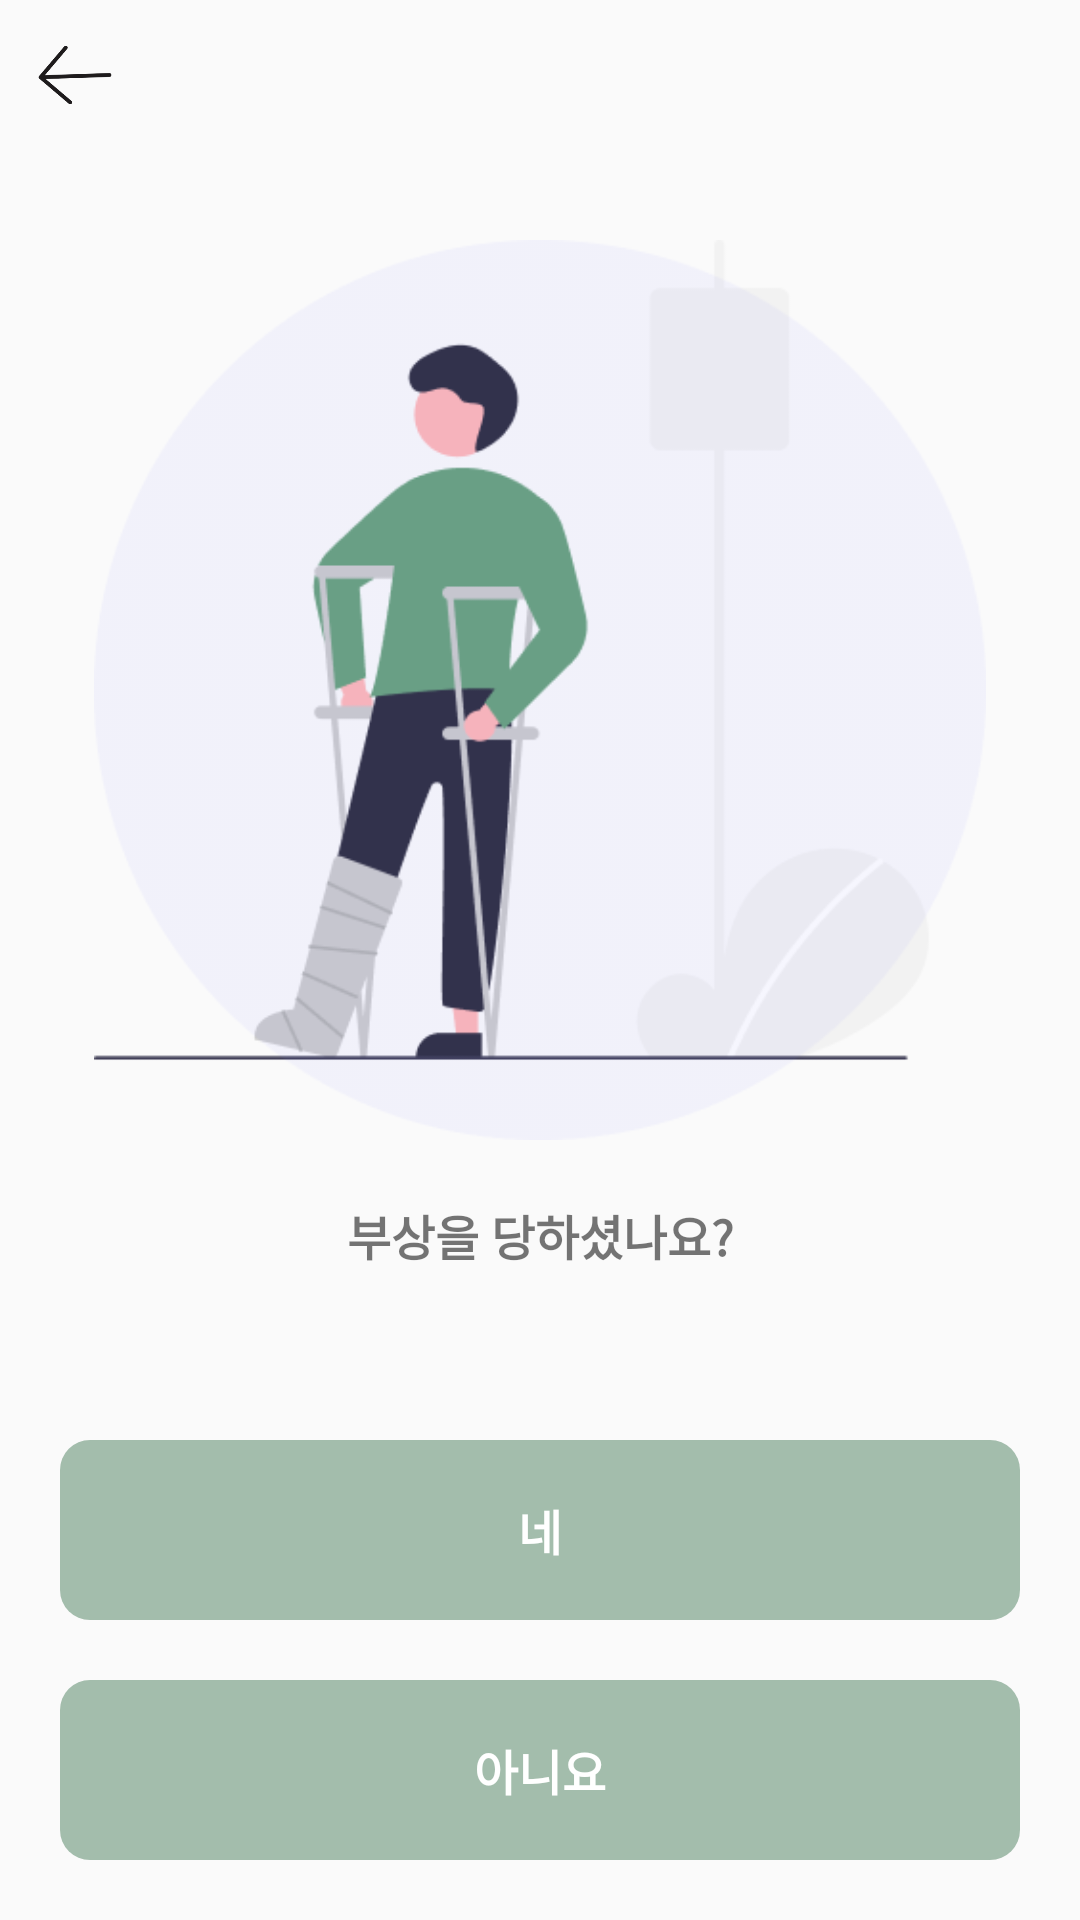

Where to tap for icons on this 1080×1920 app screen, as (x,y):
back arrow: (75,75)
